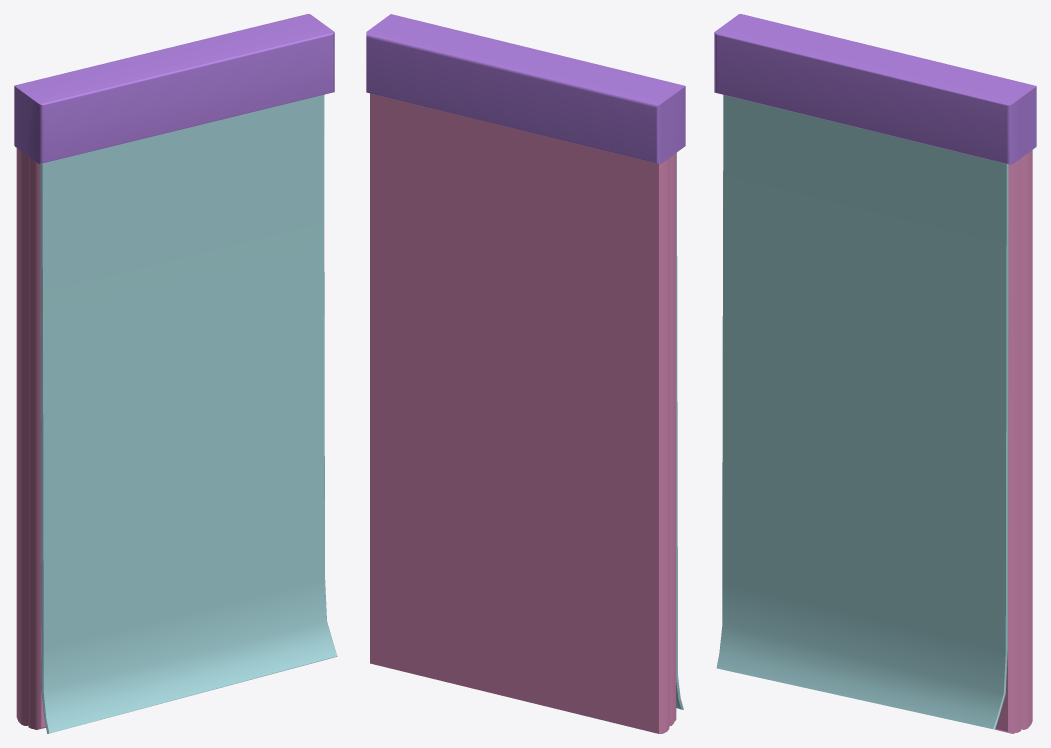
The model's file is Friday_CouponBook.fbx.
3 renders of one model, left to right at view 1: azimuth 30°, elevation 25°; view 2: azimuth 150°, elevation 25°; view 3: azimuth 330°, elevation 25°, orthographic.
Visible parts, largest first — view 1: Front, Back, CouponBook; view 2: CouponBook, Back, Front; view 3: Front, Back, CouponBook.
Boxes of the visible parts, bbox=[...] form: Front: bbox=[40, 95, 337, 733]; Back: bbox=[14, 14, 334, 163]; CouponBook: bbox=[16, 148, 45, 729]; CouponBook: bbox=[370, 93, 676, 733]; Back: bbox=[366, 14, 685, 163]; Front: bbox=[676, 152, 683, 709]; Front: bbox=[716, 95, 1008, 729]; Back: bbox=[714, 14, 1036, 164]; CouponBook: bbox=[995, 150, 1032, 733].
Size of the model in its own units: 161 by 330 by 35.72.
